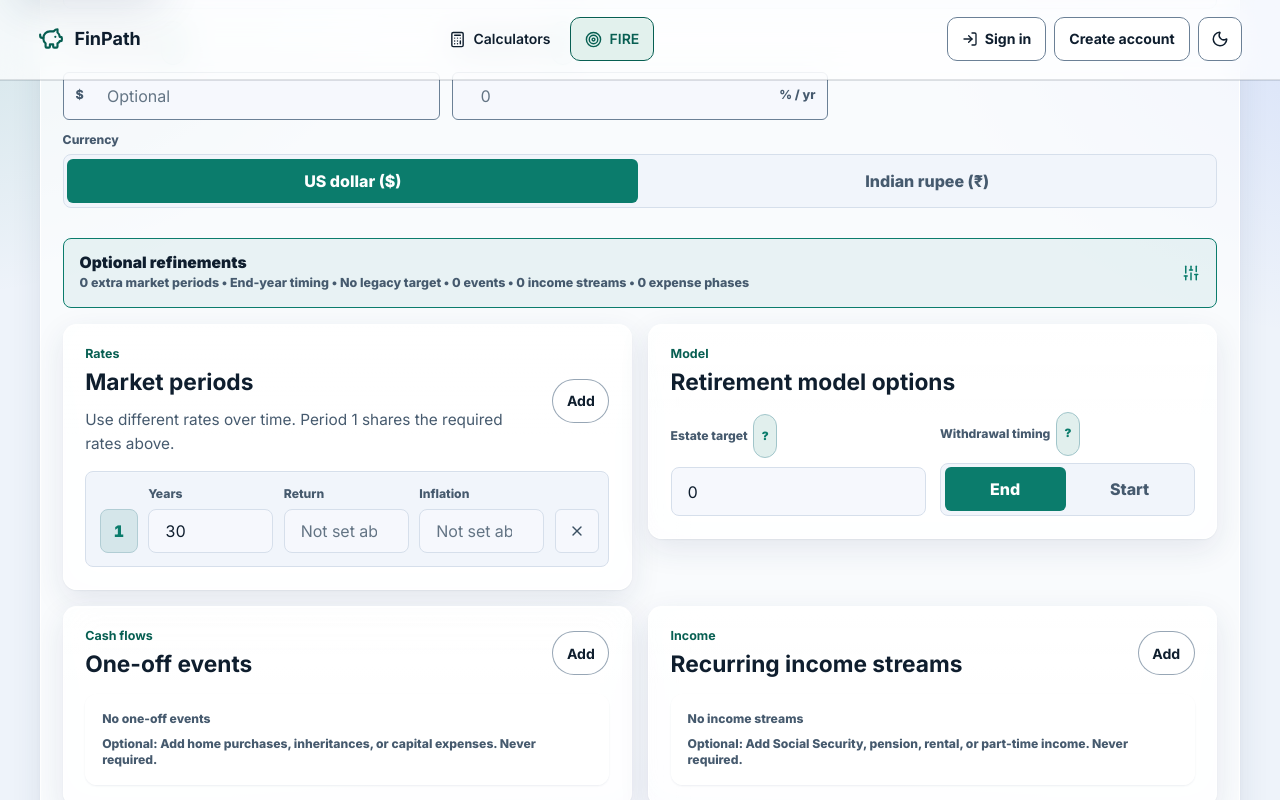
Test case: FIRE Calculator Flagship Refinement (B24 / V10 / V12) › R1 regression: ensures all field IDs in advanced and repeated sections are unique and labels focus their own inputs
(page scrolled)
Click the 3rd button with class "secondary-button": (581, 401) [552, 379, 609, 423]
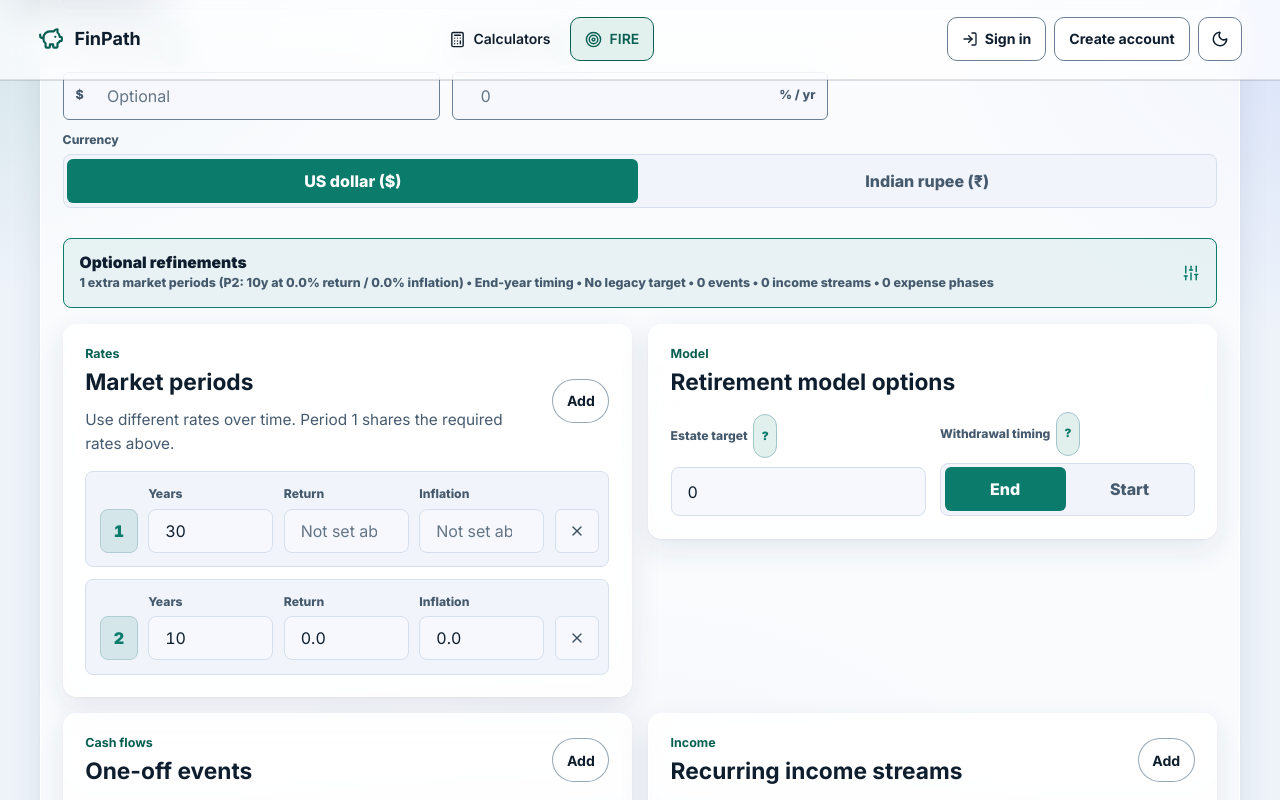
Result: the 2nd number field labelled "Years" is shown at [148, 616, 273, 660]
